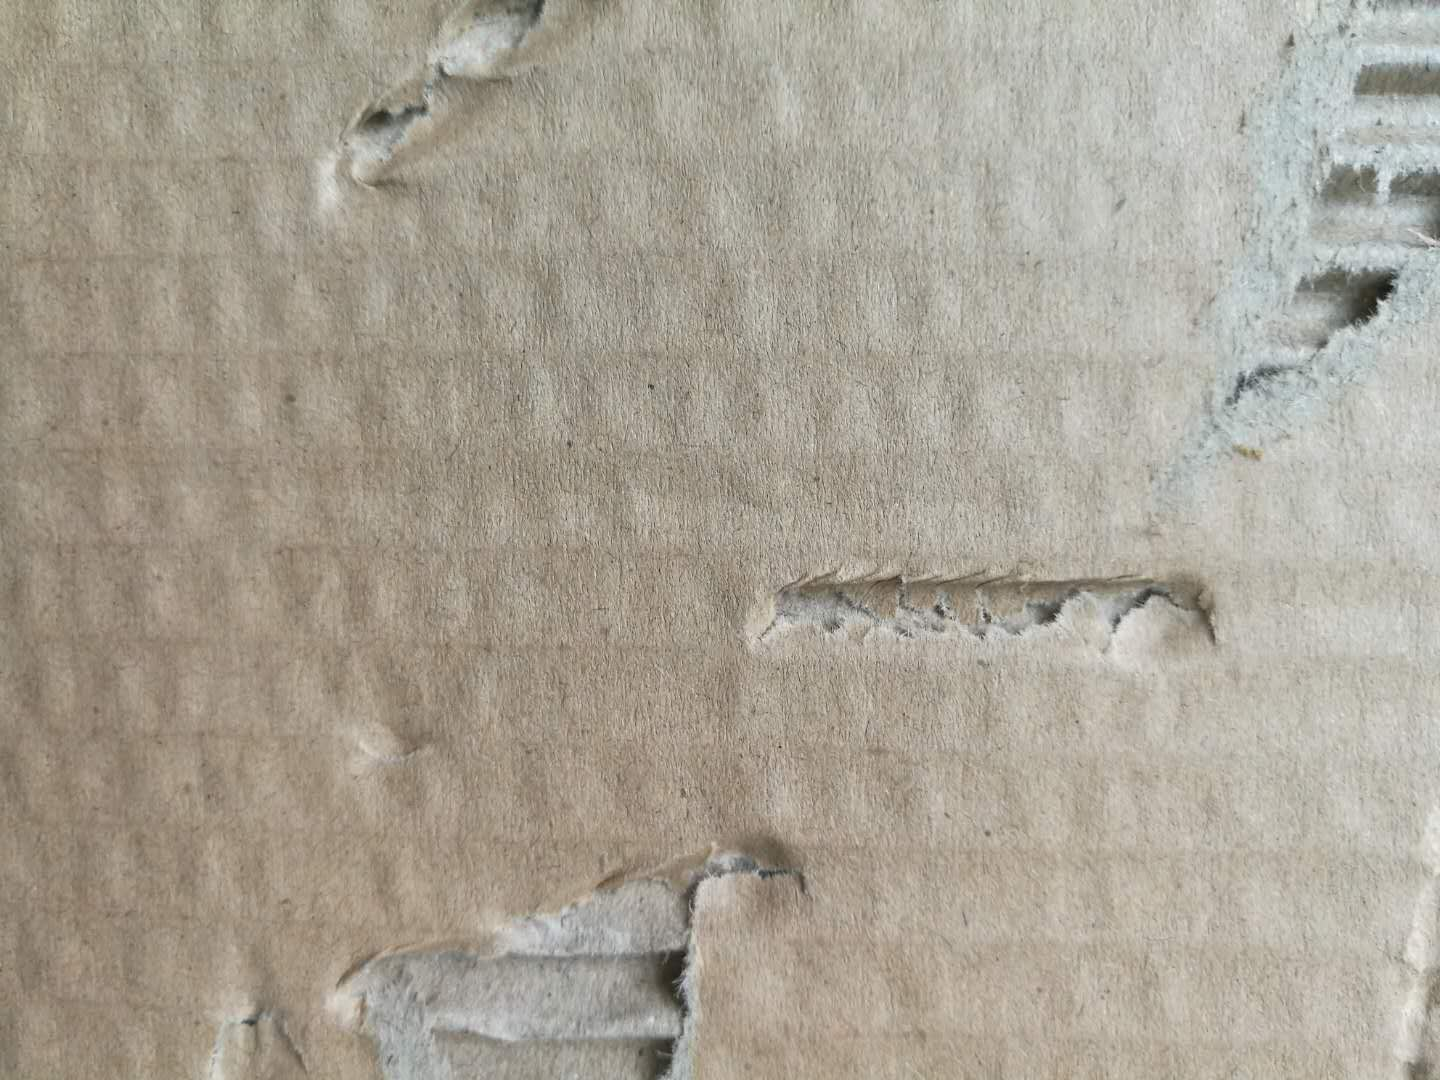defect: (152, 819, 845, 1080), (1124, 2, 1440, 538), (706, 531, 1320, 719), (291, 2, 627, 219), (1374, 795, 1438, 1080), (327, 700, 468, 795)
